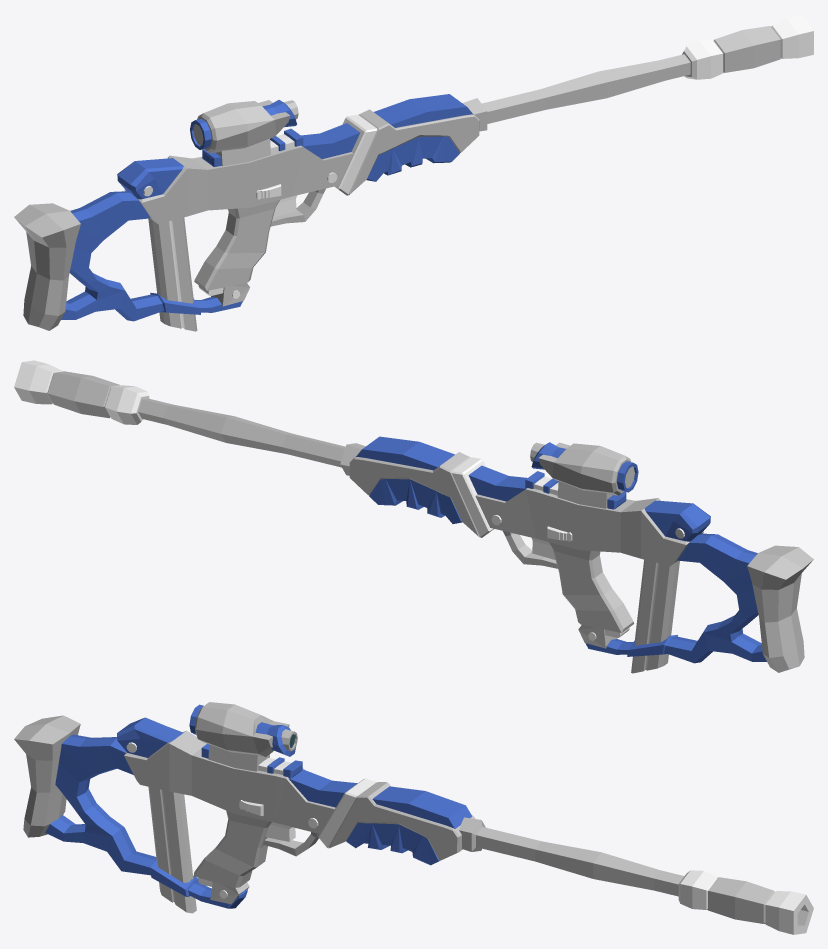
Rendered from Sniper_01_Blue.fbx.
3 views of the same model, one above another, from view 1: azimuth 30°, elevation 25°; view 2: azimuth 150°, elevation 25°; view 3: azimuth 330°, elevation 25° (orthographic).
Visible parts, largest first — view 1: Sniper_01_Blue; view 2: Sniper_01_Blue; view 3: Sniper_01_Blue.
Boxes of the visible parts, bbox=[...] form: Sniper_01_Blue: bbox=[14, 14, 813, 331]; Sniper_01_Blue: bbox=[14, 360, 813, 673]; Sniper_01_Blue: bbox=[14, 702, 813, 934].
Size of the model in its own units: 119 by 31.09 by 9.13.
1 material, 1 textured.
